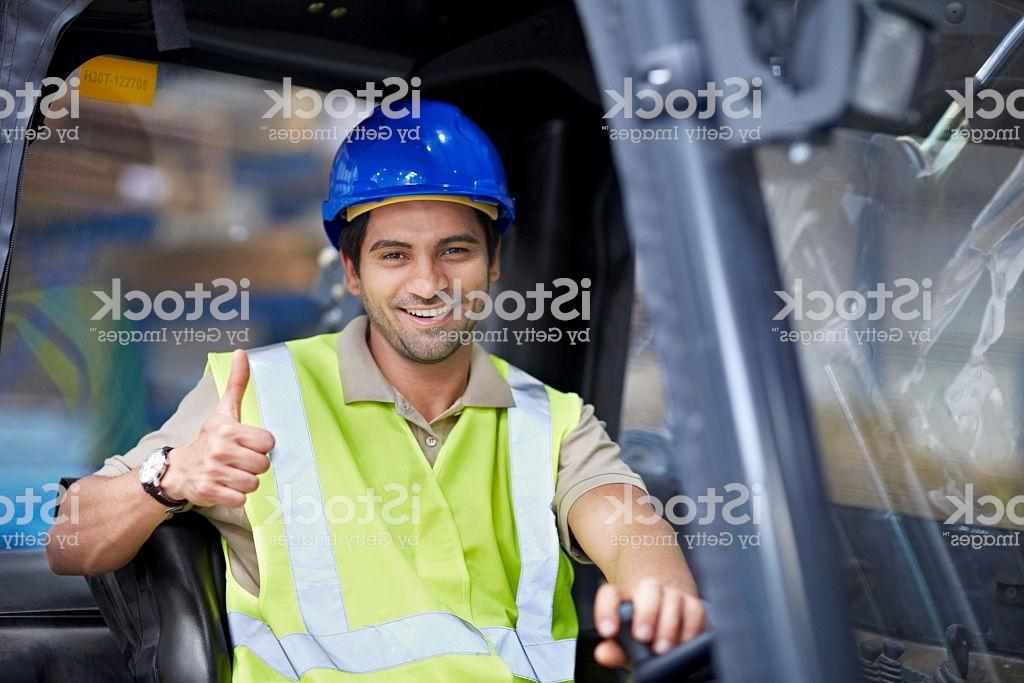thumbsup: (194, 347, 278, 511)
